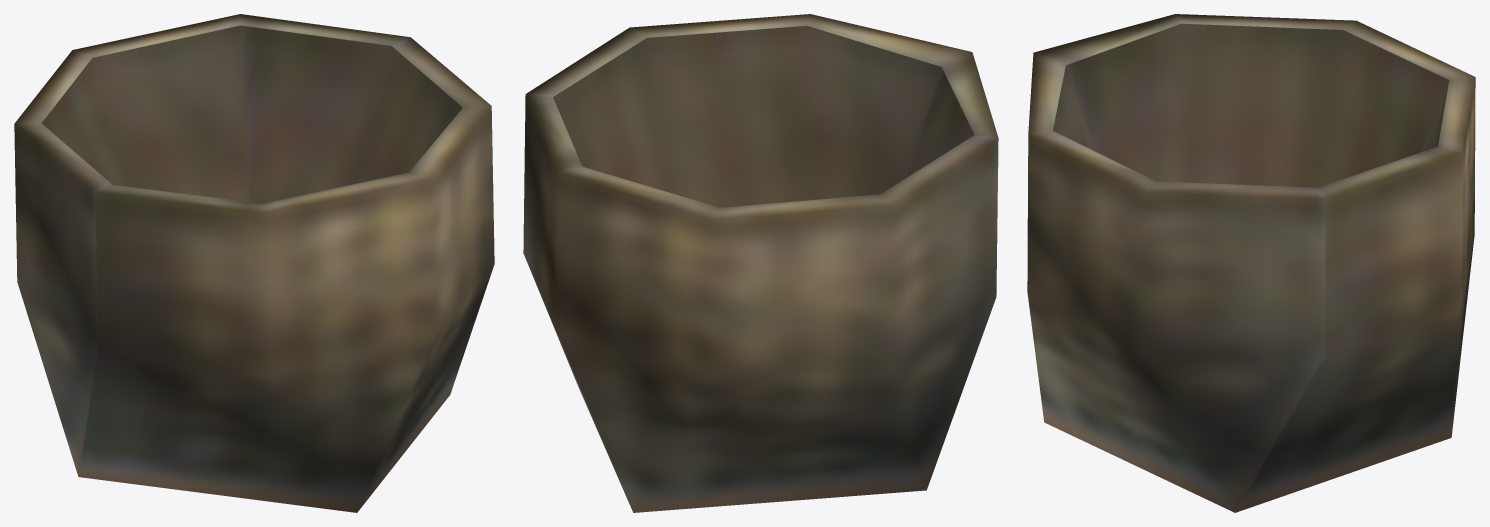
Rendered from Map01_ZaWu_LouZi.FBX.
The picture shows the model from 3 angles, left to right: view 1: azimuth 30°, elevation 25°; view 2: azimuth 150°, elevation 25°; view 3: azimuth 270°, elevation 25°; orthographic projection. The views are drawn at different scales.
Visible parts, largest first — view 1: Map01_ZaWu_LouZi; view 2: Map01_ZaWu_LouZi; view 3: Map01_ZaWu_LouZi.
Boxes of the visible parts, x1,y1,x2,y2 form: Map01_ZaWu_LouZi: (14,14,494,512); Map01_ZaWu_LouZi: (523,14,998,512); Map01_ZaWu_LouZi: (1027,14,1475,512).
Size of the model in its own units: 78.46 by 63.09 by 78.41.
